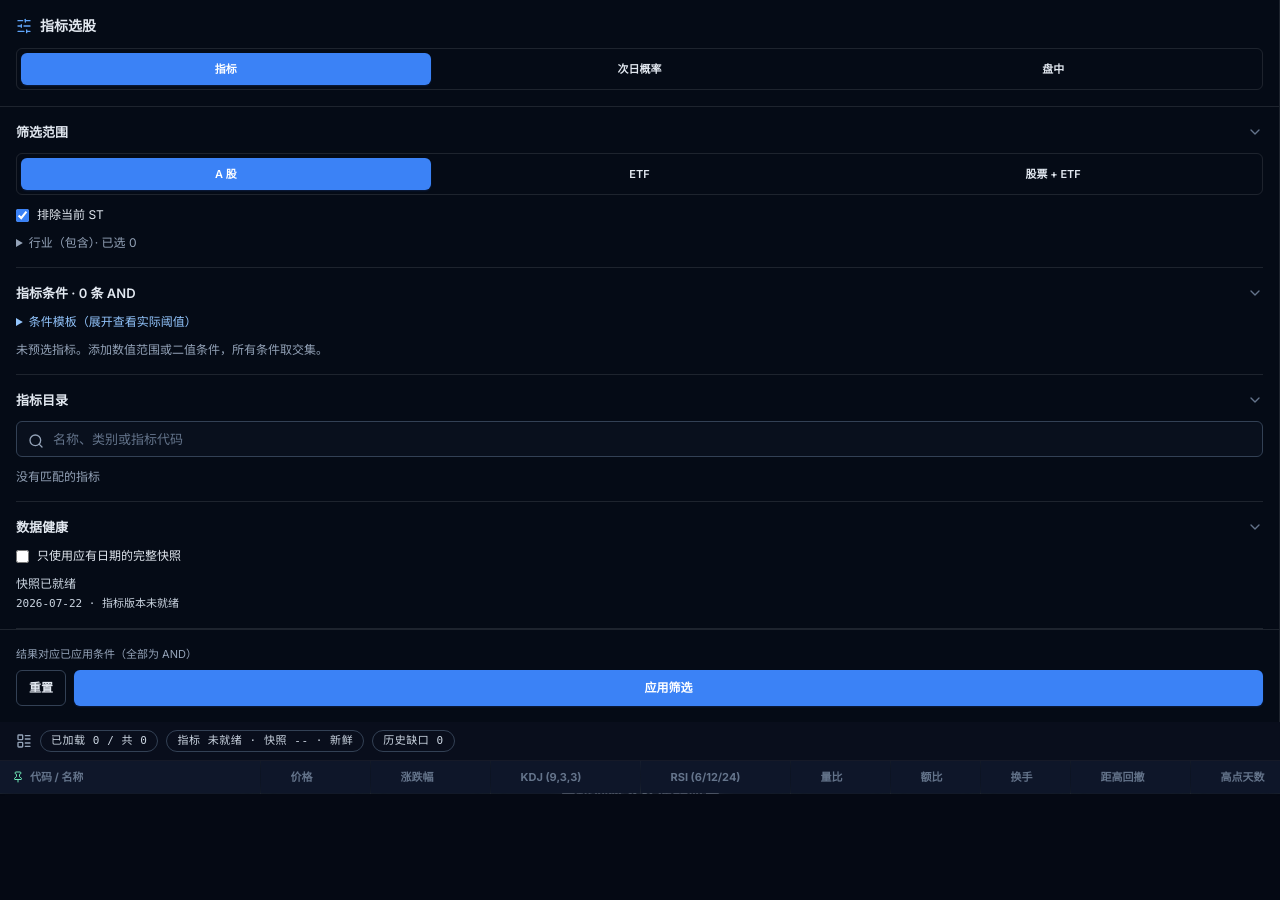
ScreeningTopBar snapshot recovery › keeps result columns on the active mode until the draft is run
The image size is (1280, 900).
Expected: the text "KDJ (9,3,3)" is shown, [521,771,581,783]
Click the button "盘中": (1053, 69) [848,53,1258,85]
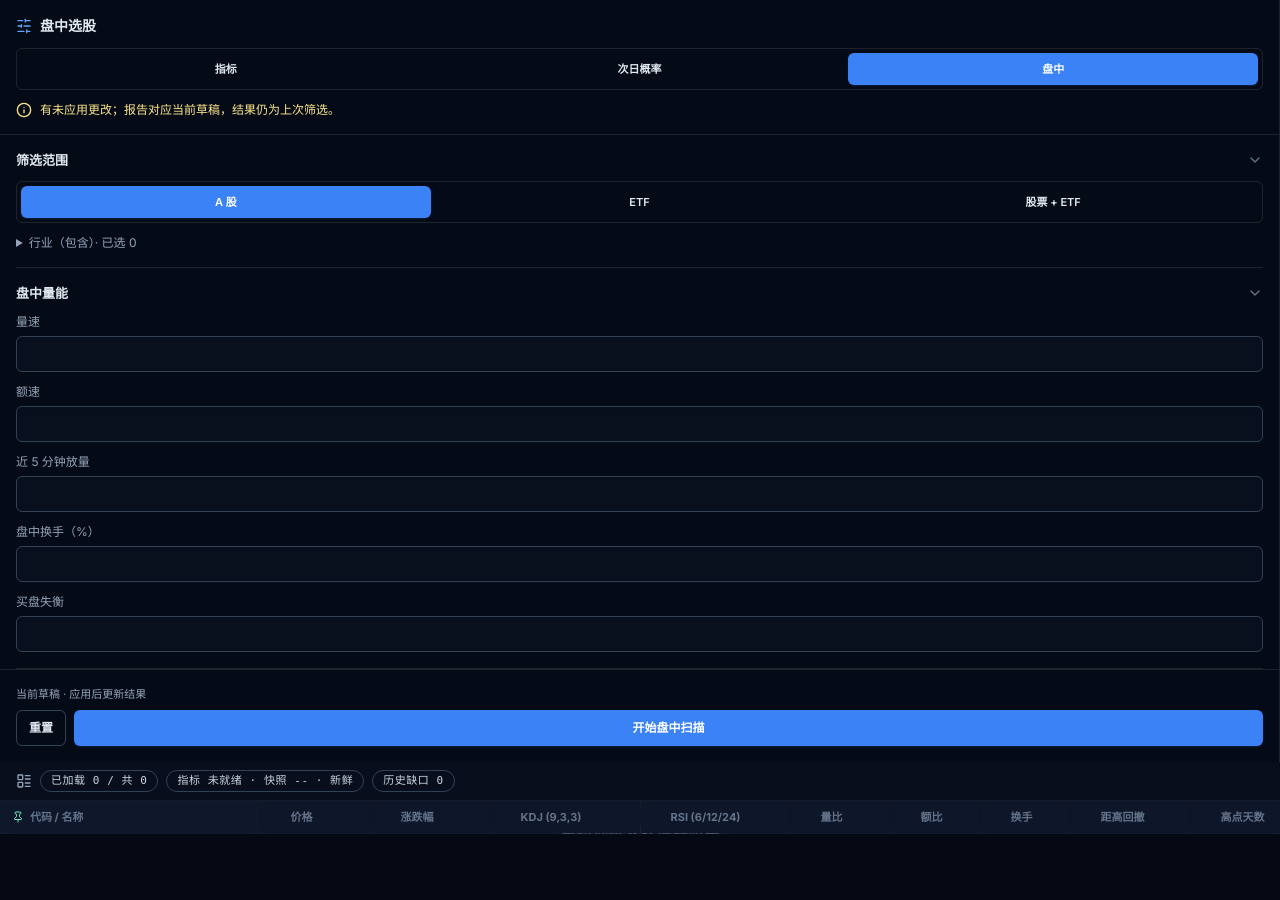
Expected: the text "KDJ (9,3,3)" is shown, [521,811,581,823]
Expected: the text "有未应用更改；报告对应当前草稿，结果仍为上次筛选。" is shown, [16,102,340,118]
Click the button "开始盘中扫描": (668, 728) [74,710,1263,746]
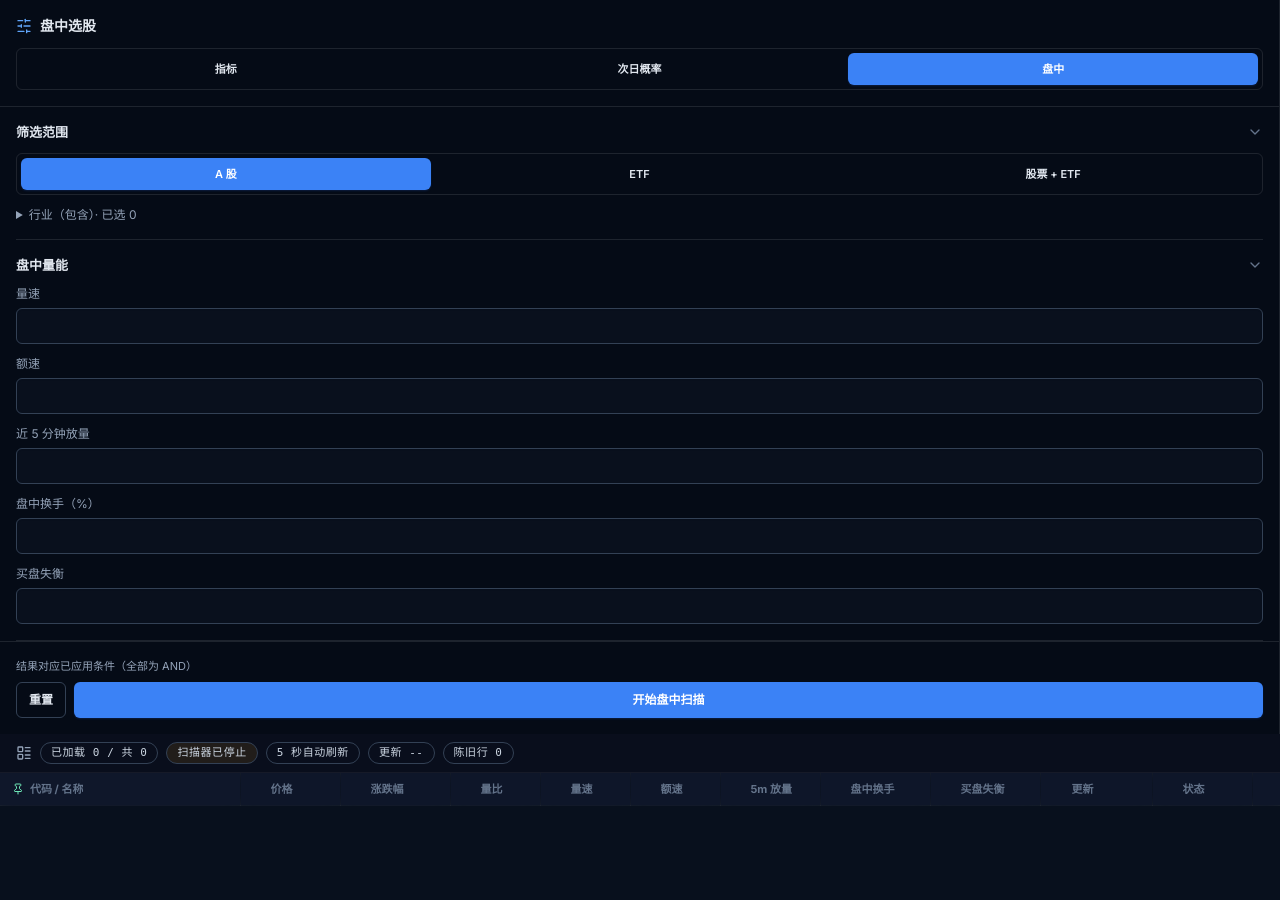
Expected: the button "KDJ (9,3,3)" is gone
